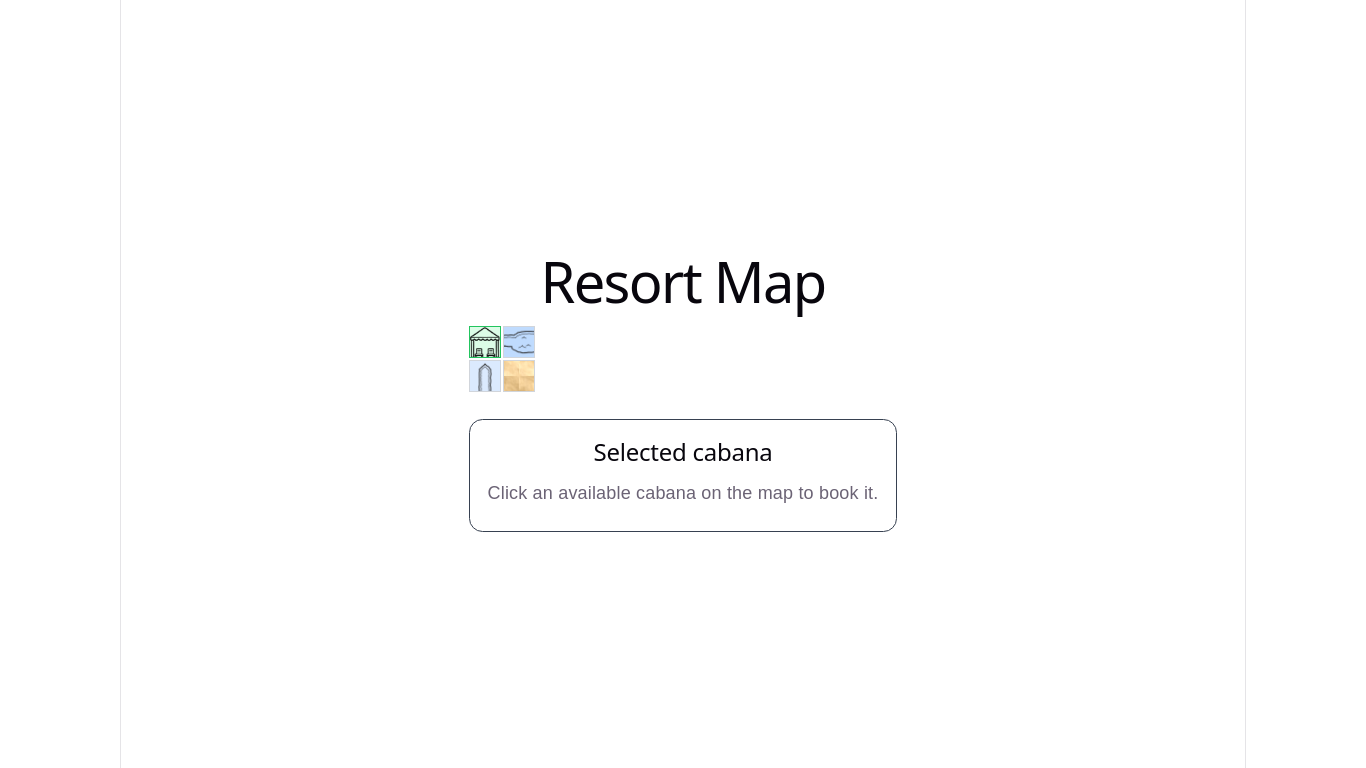
Test: App › shows the booking form when the user clicks an available cabana
Step 1. Click the button named "cabana" → (484, 342), box [468,326,500,358]
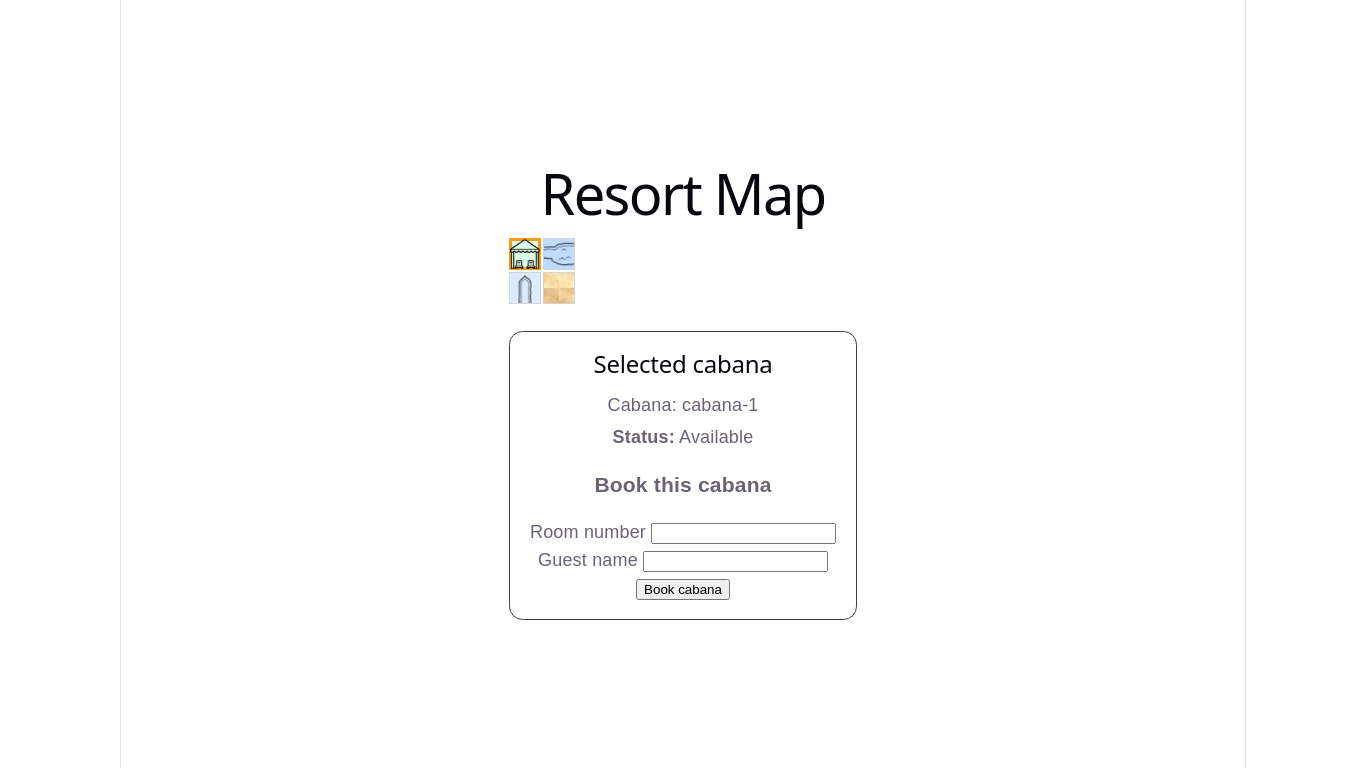
Check: the field labelled "Room number" is shown, box [651,523,836,544]
Check: the field labelled "Guest name" is shown, box [643,551,828,572]
